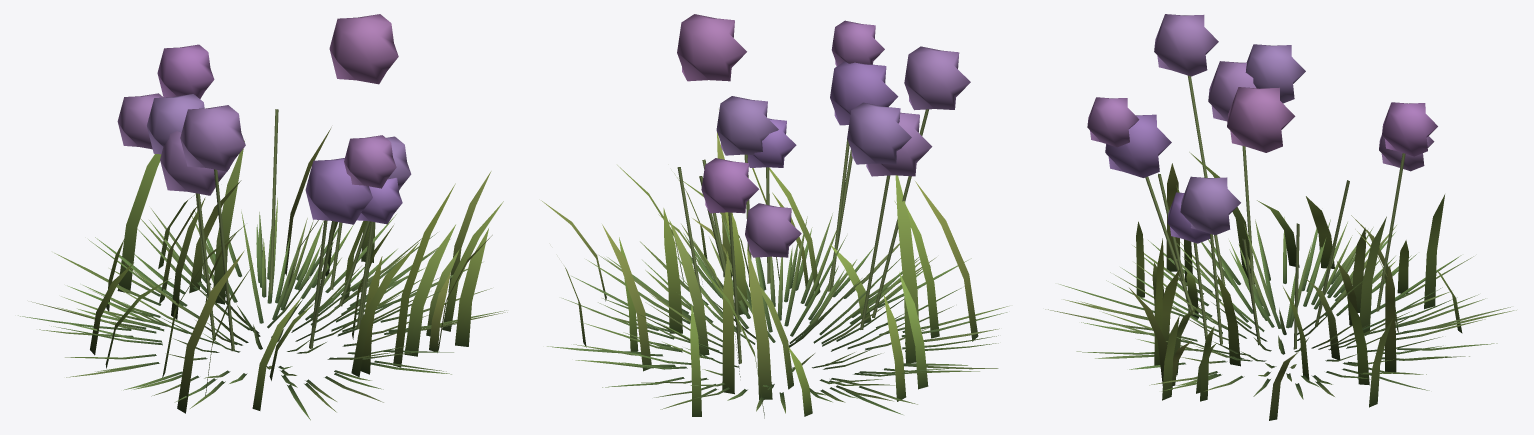
File: eco_flower_violet_cushion_LOD1.glb
3 renders of one model, left to right at view 1: azimuth 30°, elevation 25°; view 2: azimuth 150°, elevation 25°; view 3: azimuth 270°, elevation 25°, orthographic. The views are drawn at different scales.
Visible parts, largest first — view 1: eco_flower_violet_cushion_LOD1; view 2: eco_flower_violet_cushion_LOD1; view 3: eco_flower_violet_cushion_LOD1.
Boxes of the visible parts, left/top/right/bottom form: eco_flower_violet_cushion_LOD1: left=18, top=14, right=507, bottom=420; eco_flower_violet_cushion_LOD1: left=541, top=14, right=1008, bottom=418; eco_flower_violet_cushion_LOD1: left=1045, top=14, right=1516, bottom=420.
Bounding box in the file's own units: 0.4213 × 0.2707 × 0.4096.
